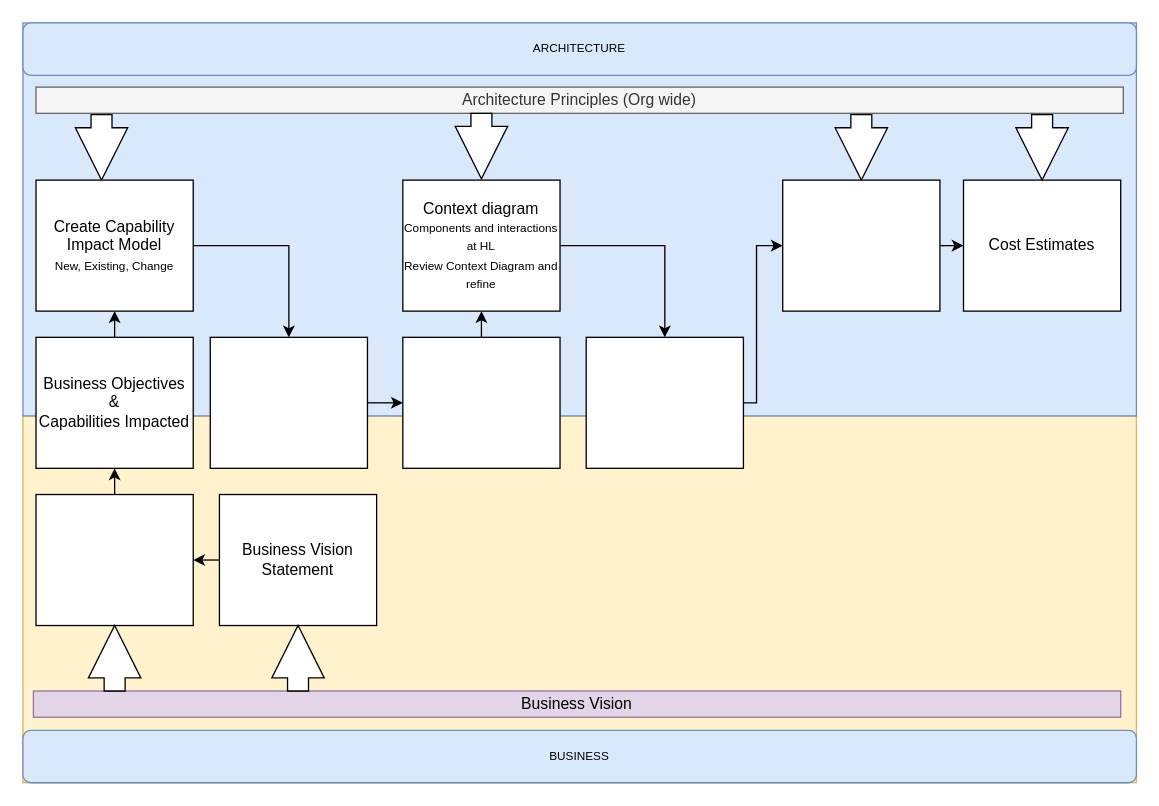
Some shapes in this 1159 by 806 pixel diagram are drawn without their labels. The centre of each missing label's shape, as x and y in pixels:
"Change drivers & opportunities What drives the change What are the opportunities" belongs at [114,559].
"High level NFR" belongs at [664,402].
"List down Architecture assumptions, constraints and risks" belongs at [288,402].
"Mitigation plan and identify owners for the risks" belongs at [481,402].
"Proposed Solution options" belongs at [860,245].
